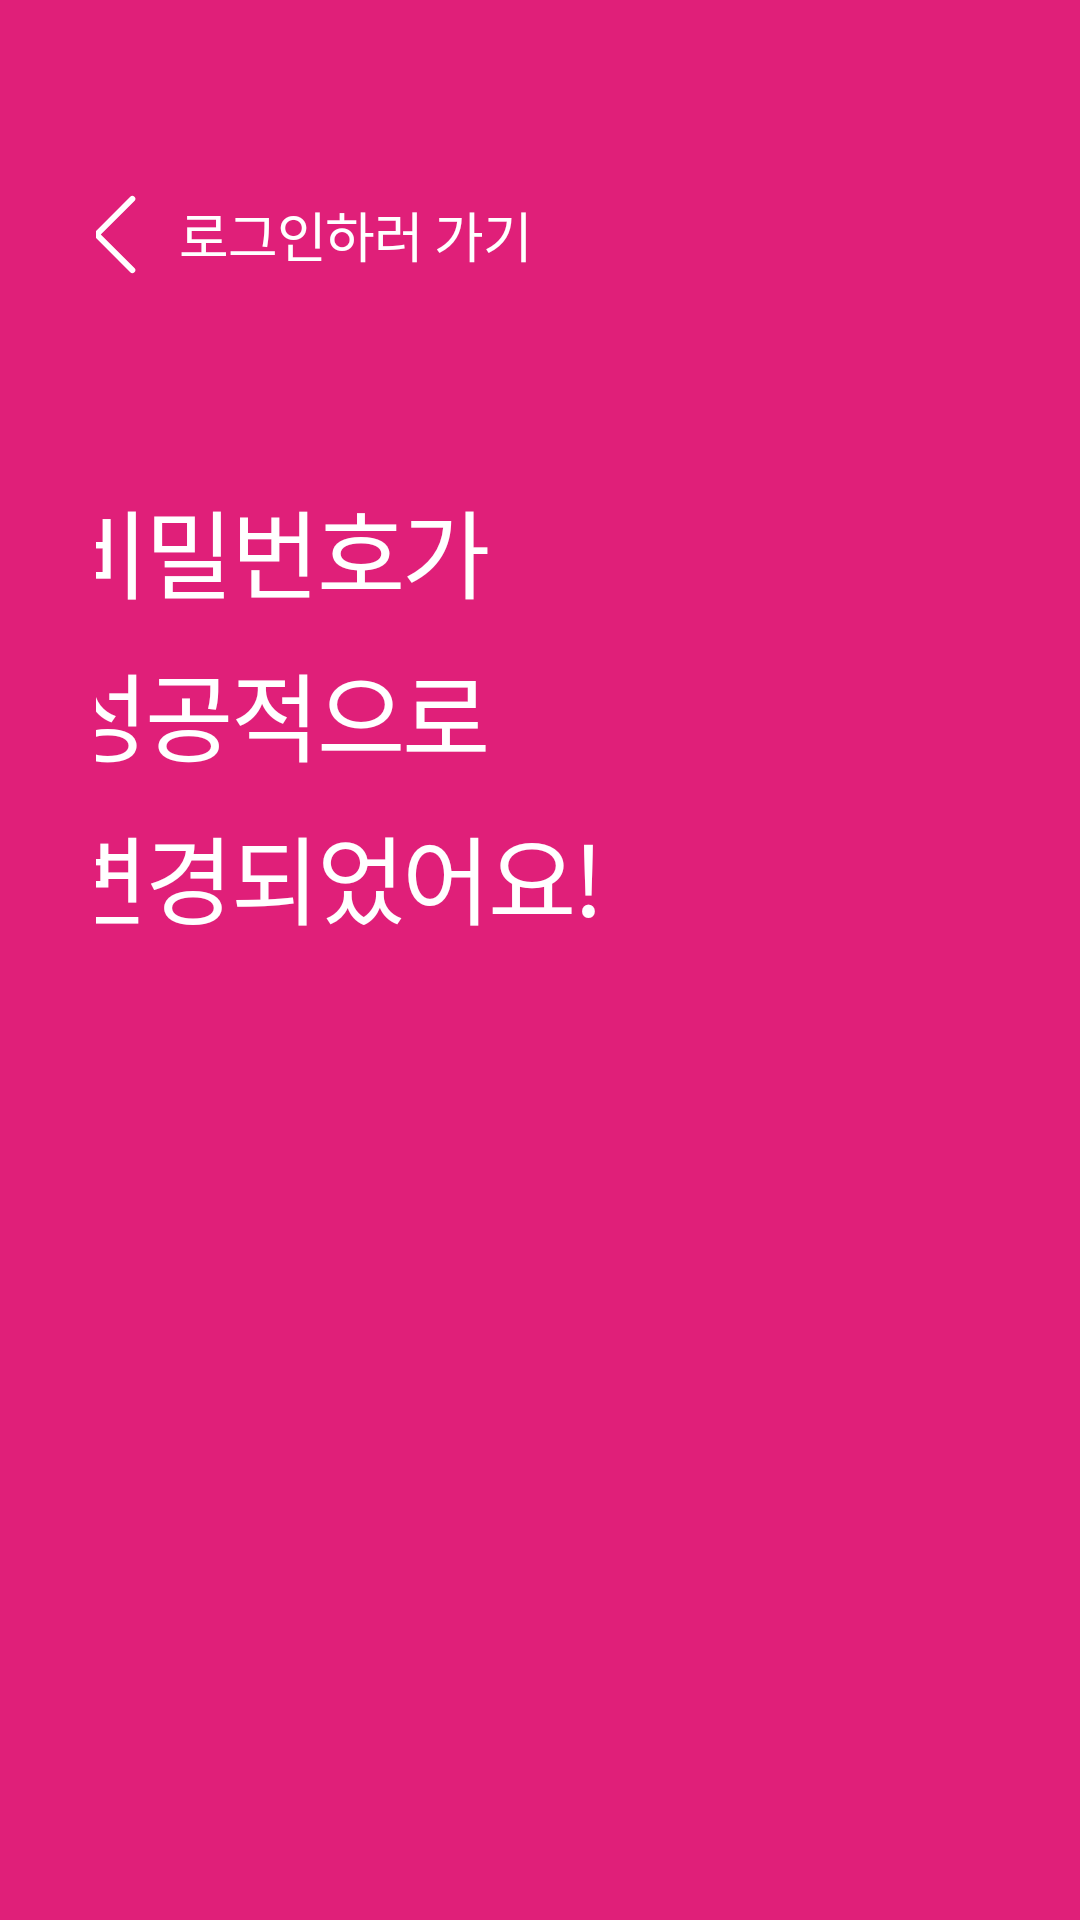

Where icons sit on this 1080px×1920px app screen, as (x1, y1, x2, y2):
로그인 화면으로 돌아가기: (96, 195, 136, 274)
